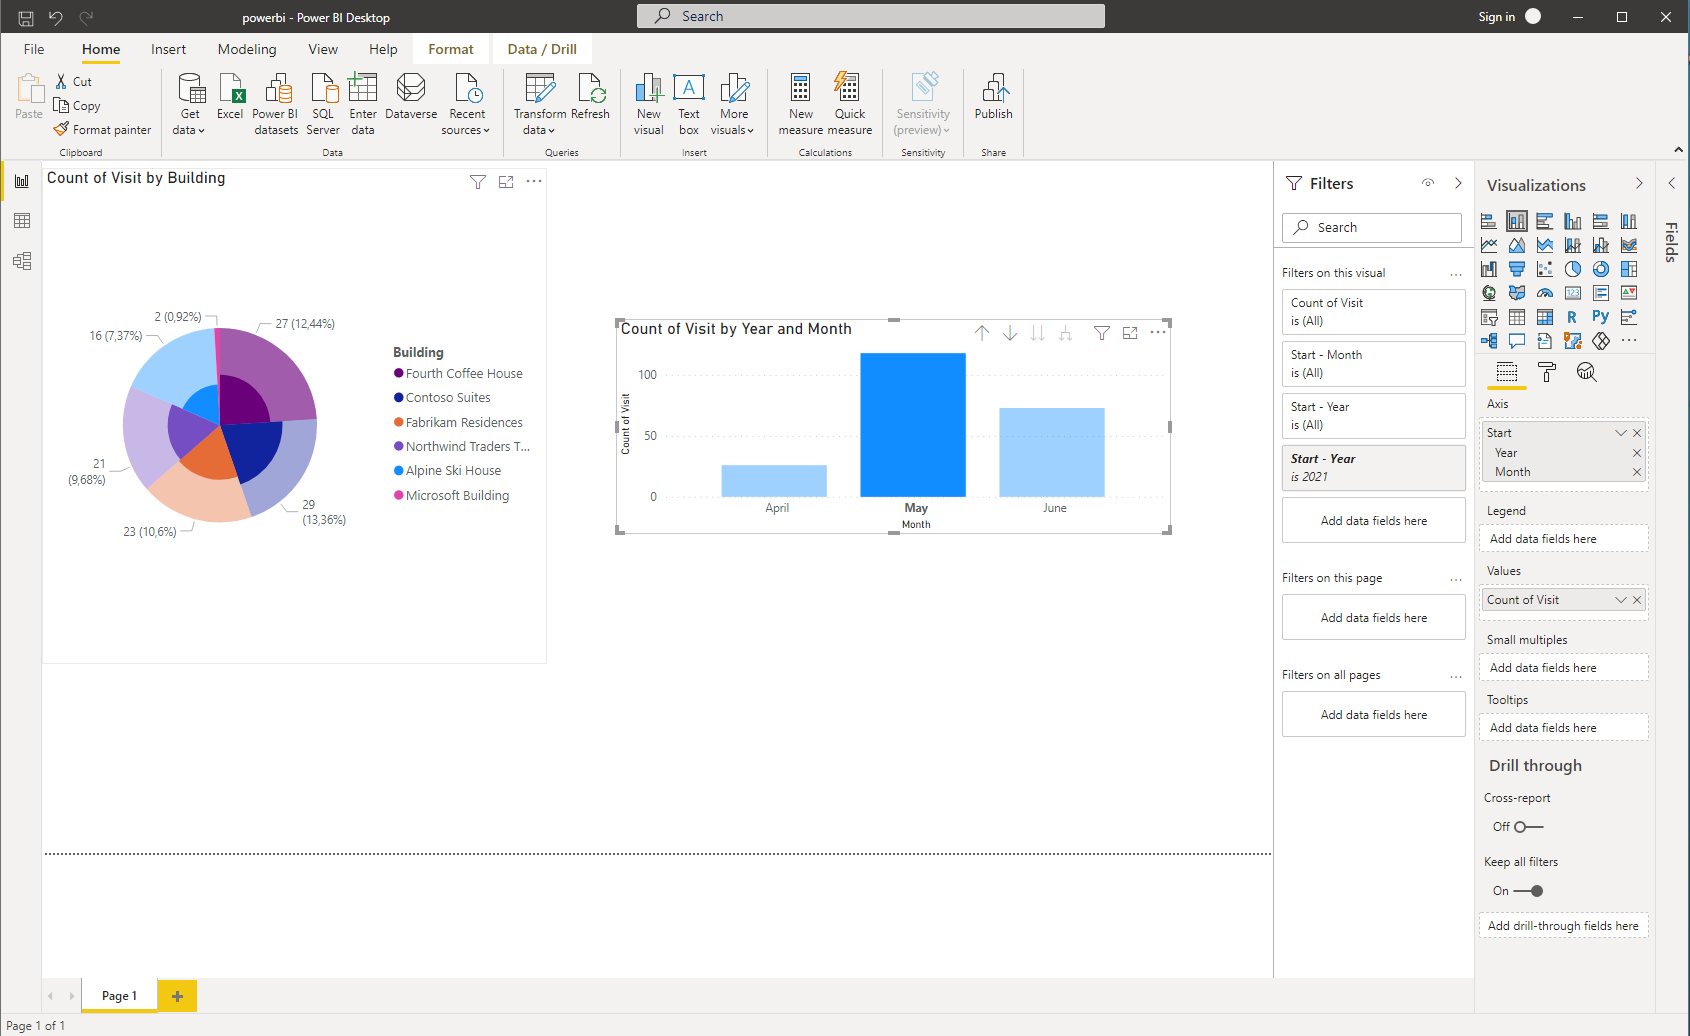

Layout of this report page (visuals, bound fields, positions):
{"tool":"powerbi","page":{"name":"Page 1","canvas":[1280,720],"ordinal":0},"visuals":[{"type":"pieChart","fields":{"Category":["bc_Visit.Building"],"Y":["CountNonNull(bc_Visit.Visit)"]},"box":[0,7.3,525.1,515.7],"z":0},{"type":"columnChart","fields":{"Y":["CountNonNull(bc_Visit.Visit)"],"Category":["bc_Visit.Start.Variation.Date Hierarchy.Year","bc_Visit.Start.Variation.Date Hierarchy.Month"]},"box":[596.8,164.3,598.9,223.6],"z":1}]}

Visuals, with their boxes on the page's 1280x720 design canvas (x1, y1, x2, y2). These are canvas units, not pixel positions in the 1690x1036 screenshot, which may show the page scaled, cropped or inside an application window:
pieChart - bc_Visit.Building x CountNonNull(bc_Visit.Visit): Rect(0, 7, 525, 523)
columnChart - CountNonNull(bc_Visit.Visit) x bc_Visit.Start.Variation.Date Hierarchy.Year: Rect(597, 164, 1196, 388)
